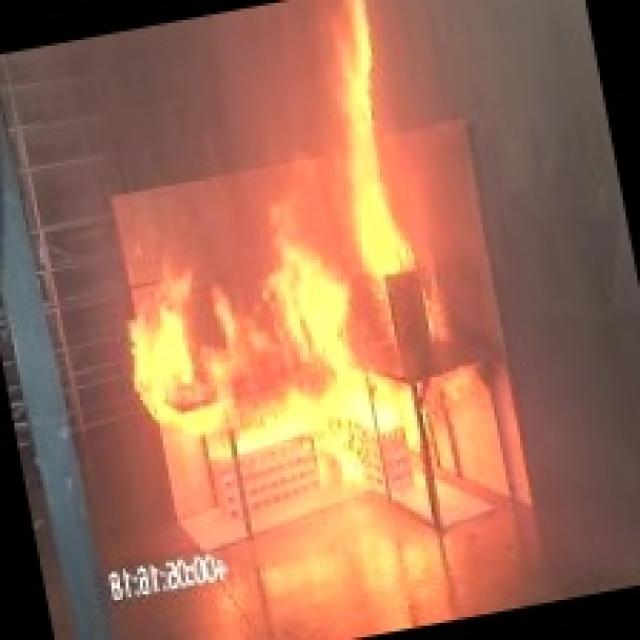fire: (55, 0, 538, 551)
